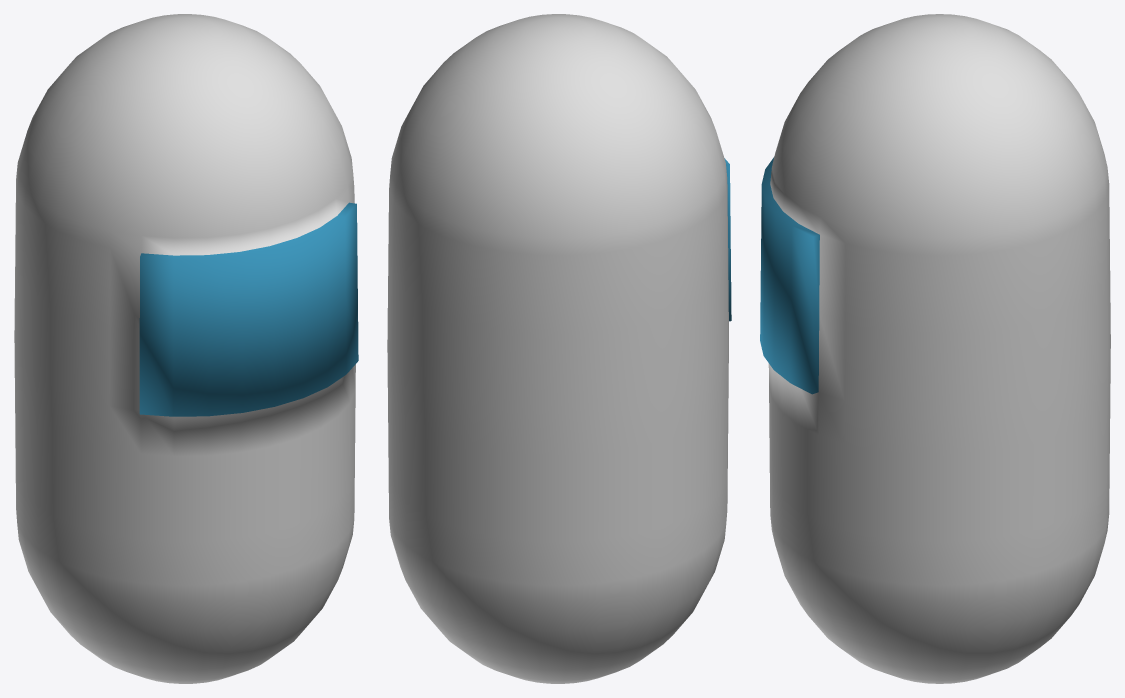
3 renders of one model, left to right at view 1: azimuth 30°, elevation 25°; view 2: azimuth 150°, elevation 25°; view 3: azimuth 270°, elevation 25°, orthographic.
Visible parts, largest first — view 1: Capsule; view 2: Capsule; view 3: Capsule.
Boxes of the visible parts, x1,y1,x2,y2 form: Capsule: (14,14,358,683); Capsule: (387,14,731,683); Capsule: (760,14,1110,683).
Size of the model in its own units: 180 by 372 by 184.
